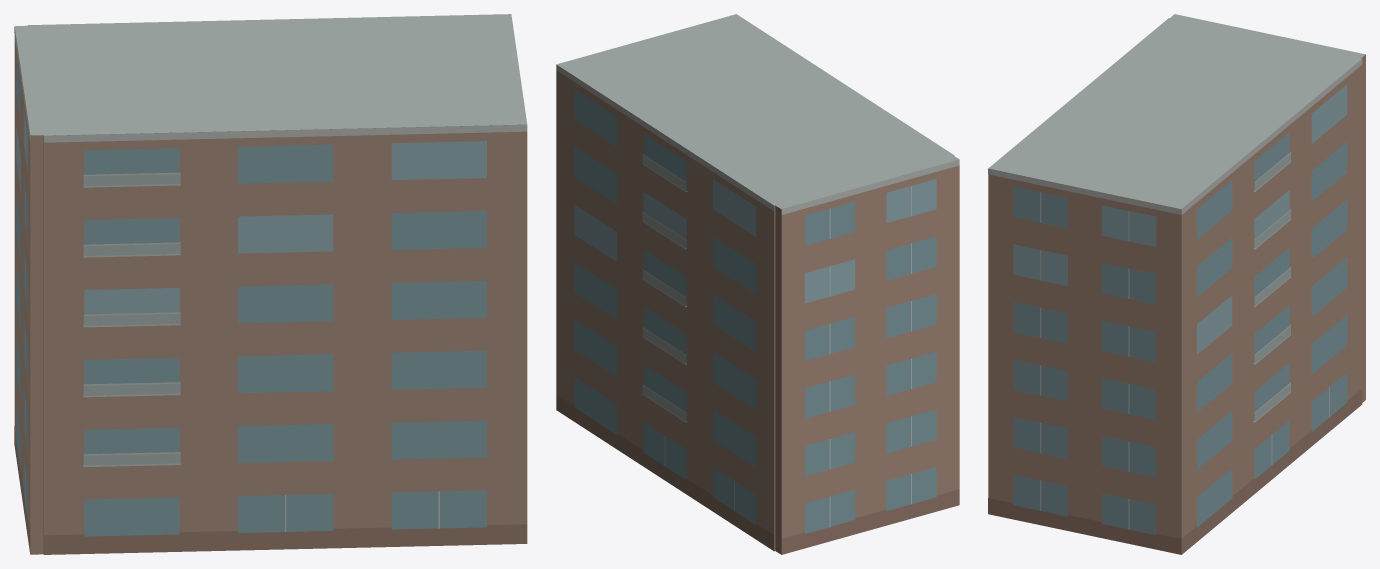
The model's file is survey-upis-32888305.glb.
3 renders of one model, left to right at view 1: azimuth 30°, elevation 25°; view 2: azimuth 150°, elevation 25°; view 3: azimuth 270°, elevation 25°, orthographic. The views are drawn at different scales.
Parts seen in each view (by area): view 1: survey-upis-32888305.tmp; view 2: survey-upis-32888305.tmp; view 3: survey-upis-32888305.tmp.
Boxes of the visible parts, box(x1,y1,x2,y2) form: survey-upis-32888305.tmp: box(14, 14, 527, 554); survey-upis-32888305.tmp: box(556, 14, 959, 554); survey-upis-32888305.tmp: box(988, 14, 1365, 554).
Size of the model in its own units: 17.45 by 14.4 by 14.27.
